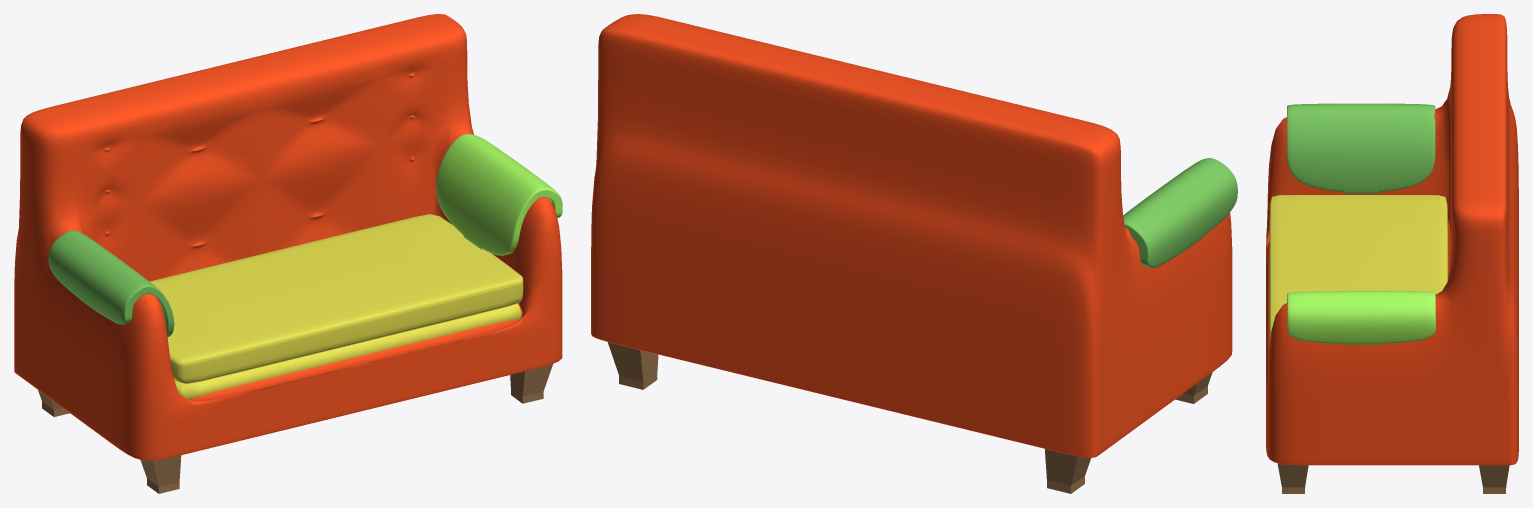
File: kursi.fbx
The picture shows the model from 3 angles, left to right: view 1: azimuth 30°, elevation 25°; view 2: azimuth 150°, elevation 25°; view 3: azimuth 270°, elevation 25°; orthographic projection. The views are drawn at different scales.
Parts seen in each view (by area): view 1: Cube, Cube.002, Plane.001, Plane, Cube.001, Plane.002, Plane.005; view 2: Cube, Plane, Plane.004, Plane.003; view 3: Cube, Cube.002, Plane, Plane.001, Plane.005, Plane.004.
Part boxes in pixels (x1,y1,x2,y2): Cube: (14, 14, 562, 460); Cube.002: (149, 214, 523, 383); Plane.001: (436, 134, 562, 255); Plane: (48, 230, 174, 336); Cube.001: (174, 303, 521, 400); Plane.002: (140, 455, 181, 493); Plane.005: (510, 364, 552, 403); Cube: (591, 14, 1232, 457); Plane: (1123, 158, 1237, 268); Plane.004: (607, 342, 658, 389); Plane.003: (1045, 449, 1091, 493); Cube: (1266, 14, 1518, 465); Cube.002: (1269, 195, 1447, 346); Plane: (1287, 103, 1435, 193); Plane.001: (1287, 291, 1435, 344); Plane.005: (1277, 463, 1308, 493); Plane.004: (1479, 465, 1509, 493).
Bounding box in the file's own units: 672 × 438 × 344.
